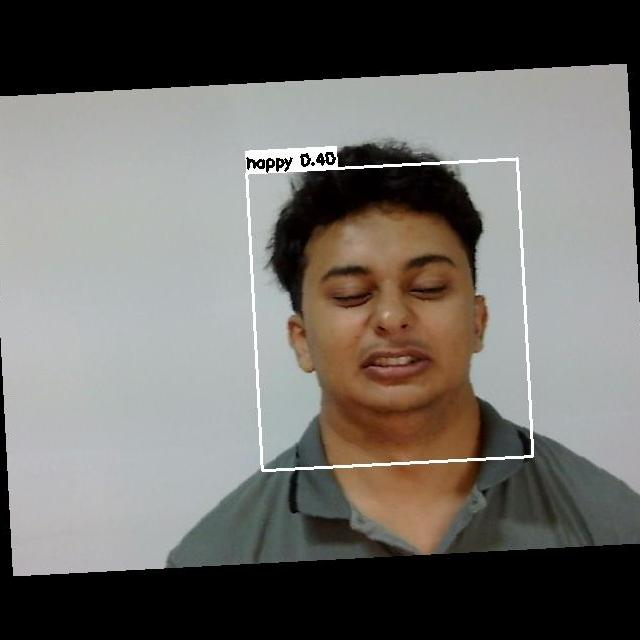Disgust: (299, 231, 491, 396)
